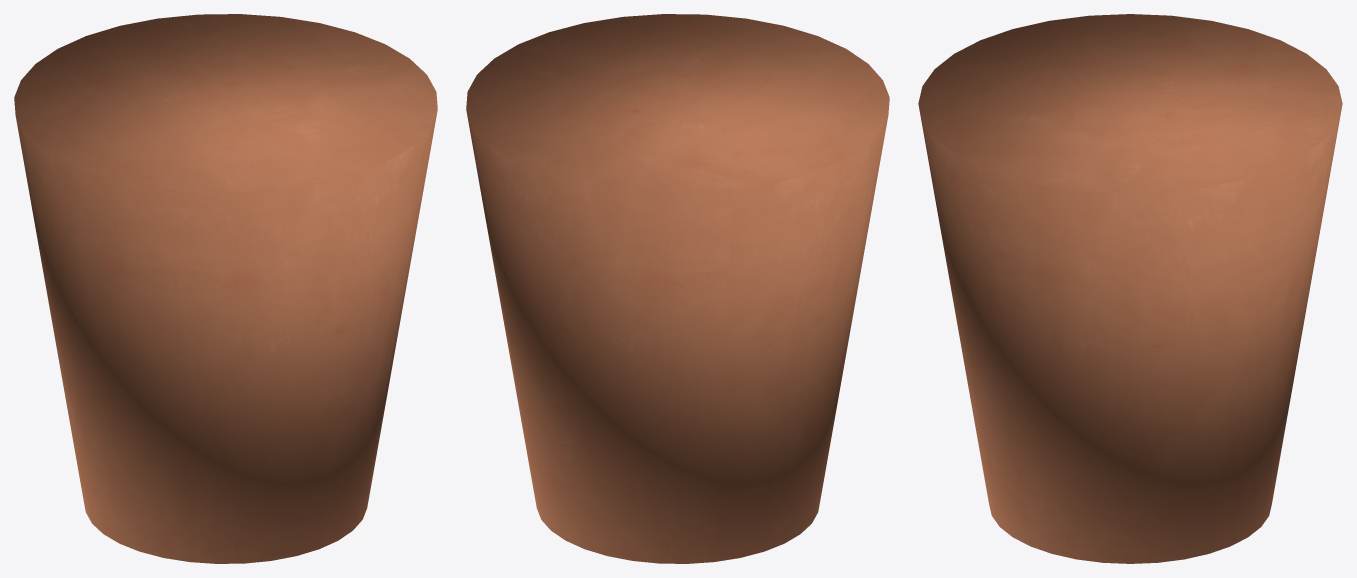
Rendered from pot.glb.
The picture shows the model from 3 angles, left to right: view 1: azimuth 30°, elevation 25°; view 2: azimuth 150°, elevation 25°; view 3: azimuth 270°, elevation 25°; orthographic projection.
Parts seen in each view (by area): view 1: Pot; view 2: Pot; view 3: Pot.
Boxes of the visible parts, bbox=[...] form: Pot: bbox=[14, 14, 437, 563]; Pot: bbox=[466, 14, 889, 563]; Pot: bbox=[918, 14, 1342, 563].
Bounding box in the file's own units: 0.3456 × 0.36 × 0.3456.
1 material, 1 textured.
